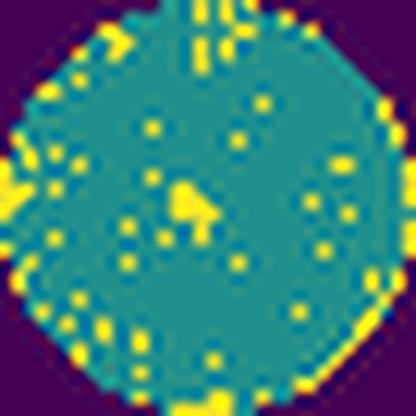Center: (166, 174, 226, 248)
